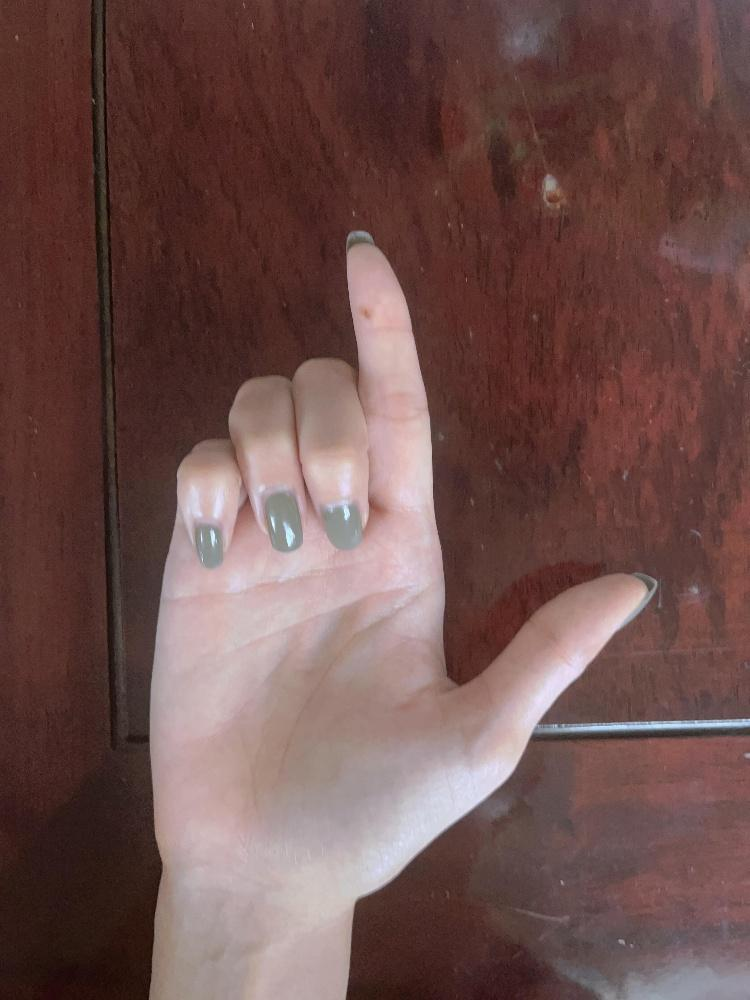l: (149, 216, 651, 902)
